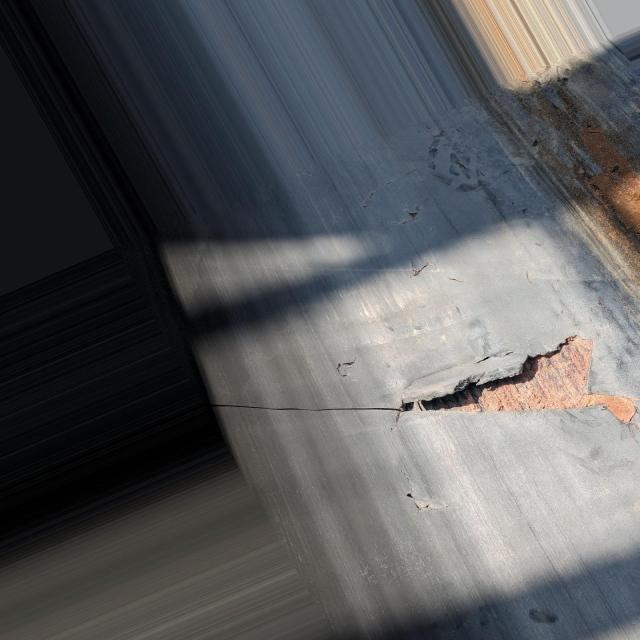Tear: (202, 328, 640, 431), (394, 464, 450, 514), (394, 203, 424, 228), (334, 356, 363, 379), (404, 260, 441, 278)
